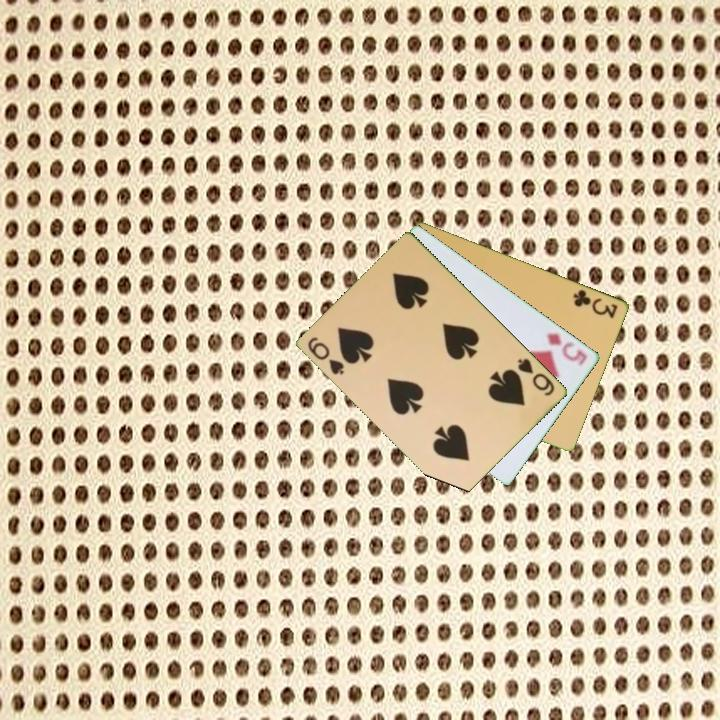3c: (570, 285, 621, 321)
5d: (543, 329, 590, 369)
6s: (514, 355, 558, 399), (305, 333, 347, 378)
